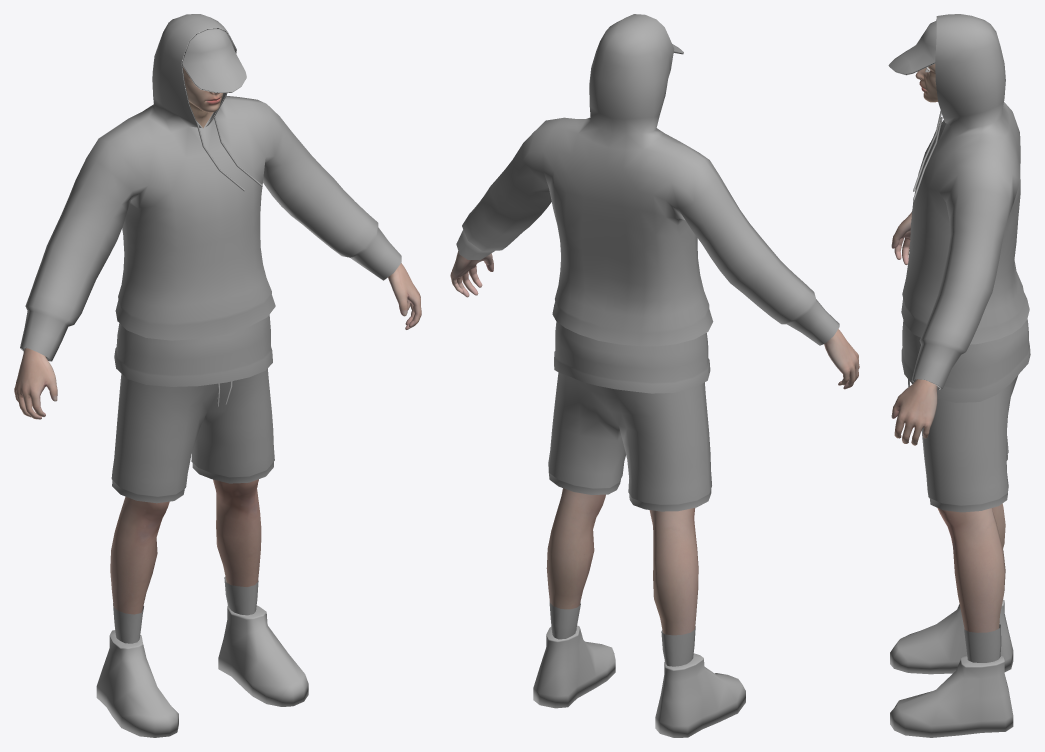
Rendered from weiyi.fbx.
3 renders of one model, left to right at view 1: azimuth 30°, elevation 25°; view 2: azimuth 150°, elevation 25°; view 3: azimuth 270°, elevation 25°, orthographic.
Visible parts, largest first — view 1: polySurface9, pasted__polySurface138; view 2: polySurface9, pasted__polySurface138; view 3: polySurface9, pasted__polySurface138.
Part boxes in pixels (x1,y1,x2,y2): polySurface9: [20, 14, 401, 737]; pasted__polySurface138: [14, 67, 421, 614]; polySurface9: [456, 14, 839, 737]; pasted__polySurface138: [450, 251, 859, 635]; polySurface9: [888, 14, 1030, 737]; pasted__polySurface138: [891, 64, 1005, 632].
Bounding box in the file's own units: 114 × 184 × 35.07.
